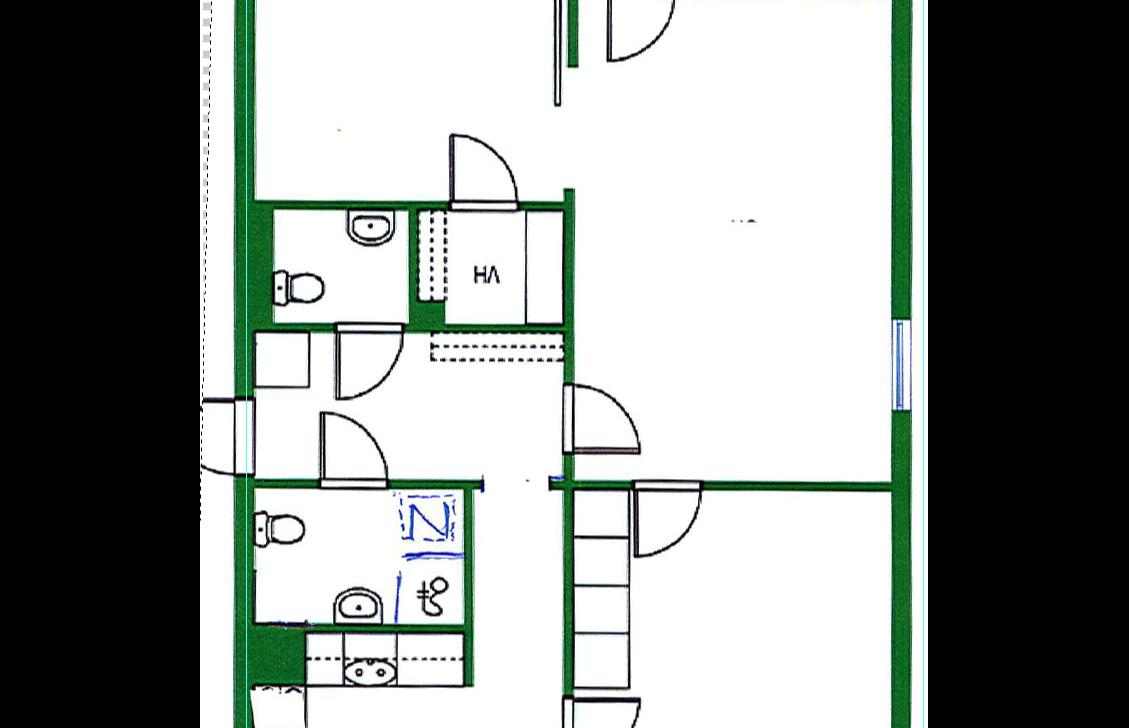door: (555, 373, 646, 459), (444, 130, 526, 218), (328, 316, 407, 404), (317, 406, 393, 494), (631, 474, 706, 560), (596, 0, 678, 66), (204, 392, 256, 482), (562, 693, 645, 728)
window: (888, 310, 916, 420)
